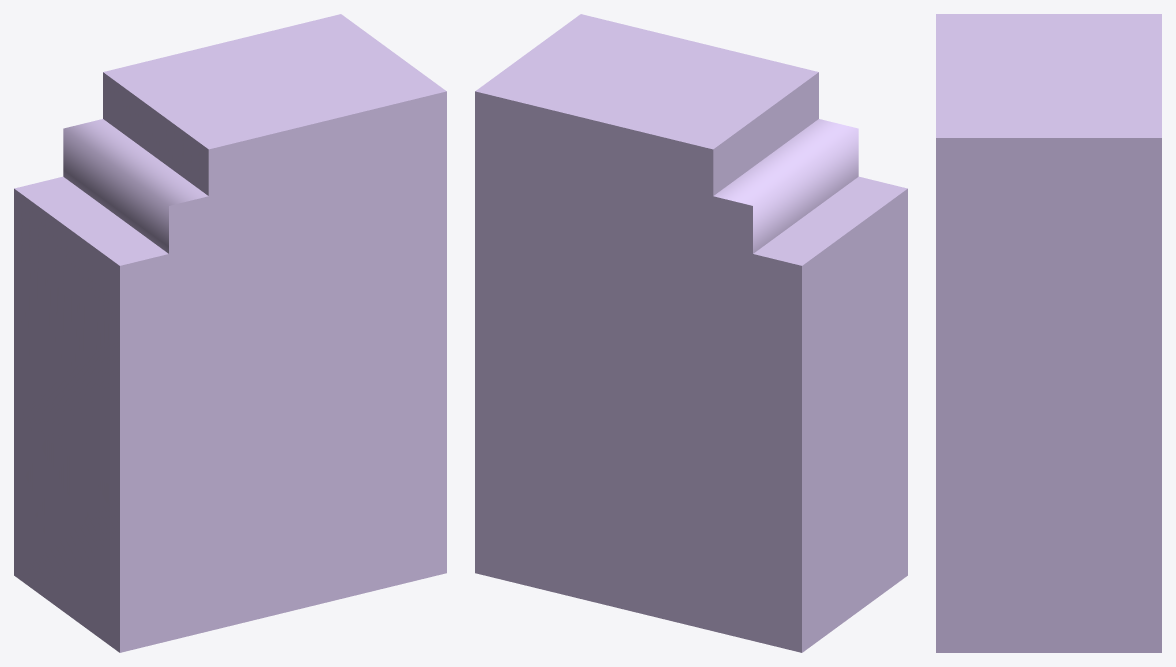
Rendered from Flour.fbx.
The picture shows the model from 3 angles, left to right: view 1: azimuth 30°, elevation 25°; view 2: azimuth 150°, elevation 25°; view 3: azimuth 270°, elevation 25°; orthographic projection. The views are drawn at different scales.
Visible parts, largest first — view 1: polySurface1; view 2: polySurface1; view 3: polySurface1.
Part boxes in pixels (bbox=[...]): polySurface1: bbox=[14, 14, 446, 652]; polySurface1: bbox=[475, 14, 907, 652]; polySurface1: bbox=[936, 14, 1161, 652].
Size of the model in its own units: 6.79 by 9.56 by 3.8.
